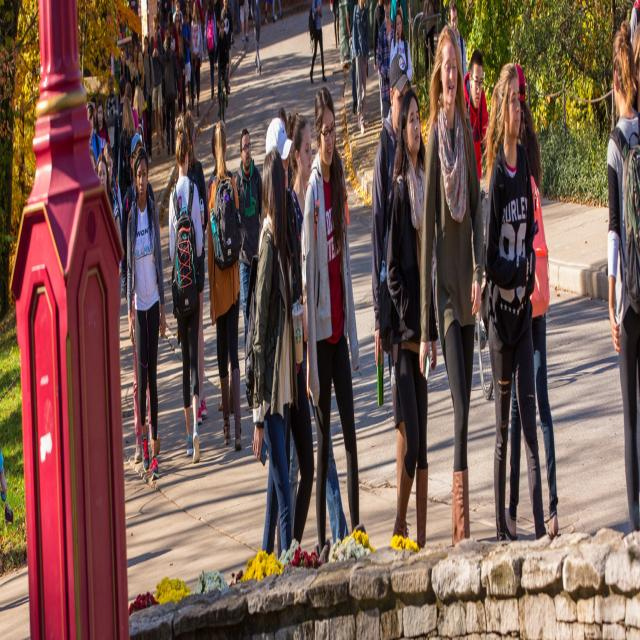body: (420, 25, 485, 548), (484, 66, 550, 547), (302, 84, 366, 563), (370, 50, 428, 548), (285, 110, 349, 551), (504, 60, 562, 543), (244, 154, 304, 556), (264, 113, 315, 566), (391, 86, 438, 549), (605, 18, 640, 536), (206, 119, 247, 456), (166, 112, 204, 468), (128, 143, 167, 484), (125, 133, 162, 466), (174, 110, 208, 422), (206, 122, 237, 416), (624, 22, 640, 538), (234, 126, 264, 359), (462, 50, 490, 189), (104, 142, 123, 332), (104, 151, 122, 341), (161, 30, 182, 157), (376, 0, 396, 129), (148, 15, 166, 156), (352, 0, 369, 136), (118, 96, 136, 209), (447, 0, 468, 90), (389, 7, 413, 84), (308, 0, 328, 86), (213, 20, 230, 120), (374, 0, 386, 130), (143, 35, 155, 164), (346, 0, 359, 115), (419, 0, 438, 76), (276, 105, 293, 188), (191, 1, 203, 117), (174, 12, 186, 125), (105, 75, 118, 175), (204, 0, 217, 100), (219, 0, 232, 95), (168, 9, 179, 117), (156, 24, 166, 142), (623, 0, 639, 72), (86, 99, 102, 168), (182, 9, 192, 113), (132, 84, 146, 152), (250, 0, 262, 76), (124, 83, 140, 136), (96, 98, 110, 155), (0, 436, 9, 521), (129, 43, 139, 107), (390, 0, 407, 37), (329, 0, 340, 48), (118, 72, 127, 130), (136, 51, 146, 103), (120, 46, 132, 88), (230, 0, 242, 37), (240, 0, 248, 44), (172, 0, 183, 24), (185, 0, 193, 32), (272, 0, 283, 22), (90, 95, 96, 135), (260, 0, 268, 26), (163, 24, 169, 52)
